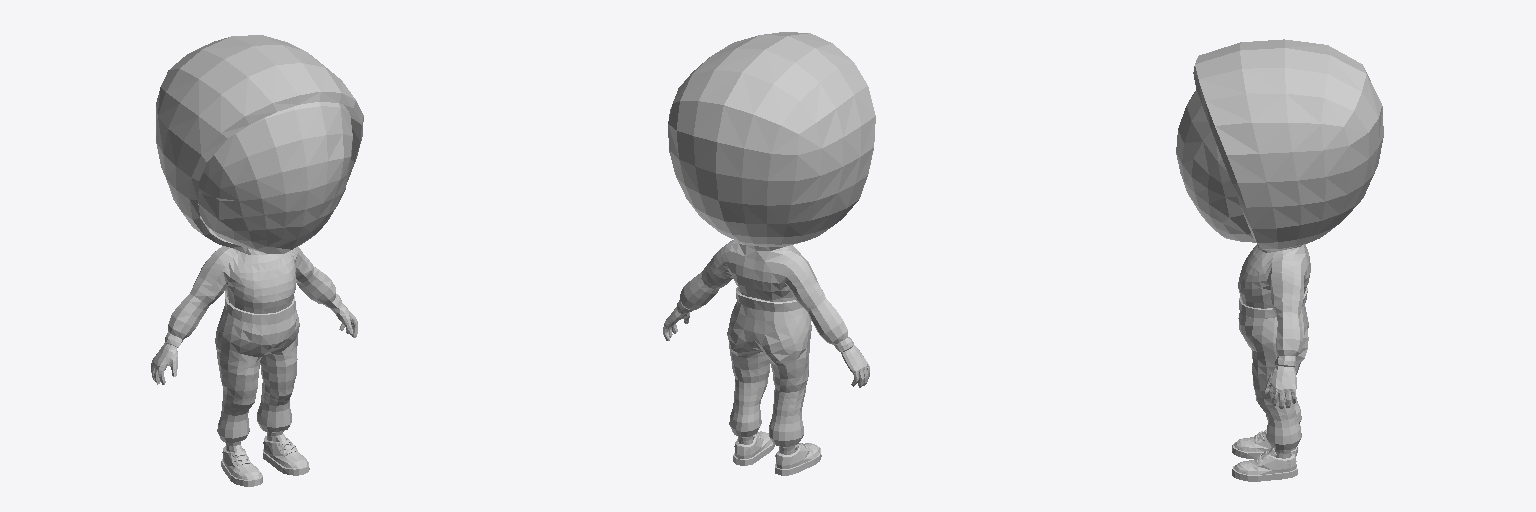
File: guard2.obj
3 renders of one model, left to right at view 1: azimuth 30°, elevation 25°; view 2: azimuth 150°, elevation 25°; view 3: azimuth 270°, elevation 25°, orthographic.
Visible parts, largest first — view 1: characters_02_Mesh.022; view 2: characters_02_Mesh.022; view 3: characters_02_Mesh.022.
Part boxes in pixels (left/top/right/bottom): characters_02_Mesh.022: left=151, top=35, right=363, bottom=486; characters_02_Mesh.022: left=663, top=32, right=875, bottom=475; characters_02_Mesh.022: left=1176, top=39, right=1383, bottom=481.
Size of the model in its own units: 0.402 by 0.7951 by 0.36.